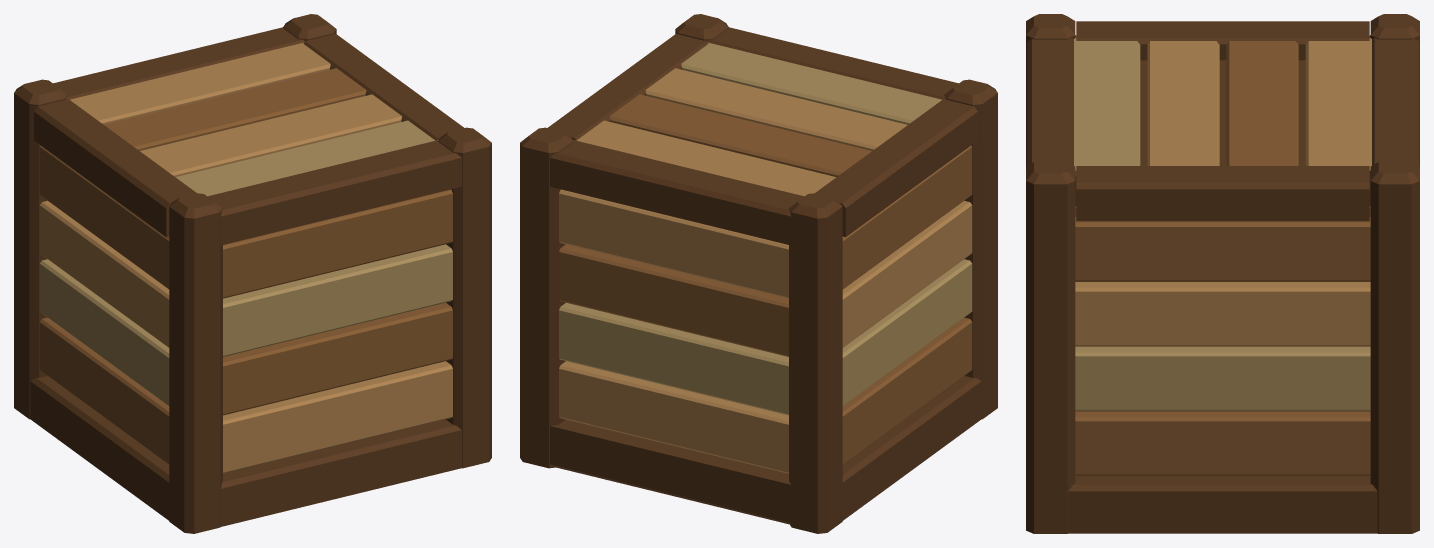
Rendered from cargo-crate-9afc44.glb.
3 renders of one model, left to right at view 1: azimuth 30°, elevation 25°; view 2: azimuth 150°, elevation 25°; view 3: azimuth 270°, elevation 25°, orthographic. The views are drawn at different scales.
Visible parts, largest first — view 1: crate-body, lid-panel; view 2: crate-body, lid-panel; view 3: crate-body, lid-panel.
Boxes of the visible parts, x1,y1,x2,y2 form: crate-body: [14, 14, 491, 533]; lid-panel: [34, 27, 463, 245]; crate-body: [520, 14, 997, 533]; lid-panel: [548, 27, 977, 245]; crate-body: [1026, 14, 1419, 533]; lid-panel: [1027, 21, 1418, 221].
Bounding box in the file's own units: 0.8 × 0.8 × 0.8.
